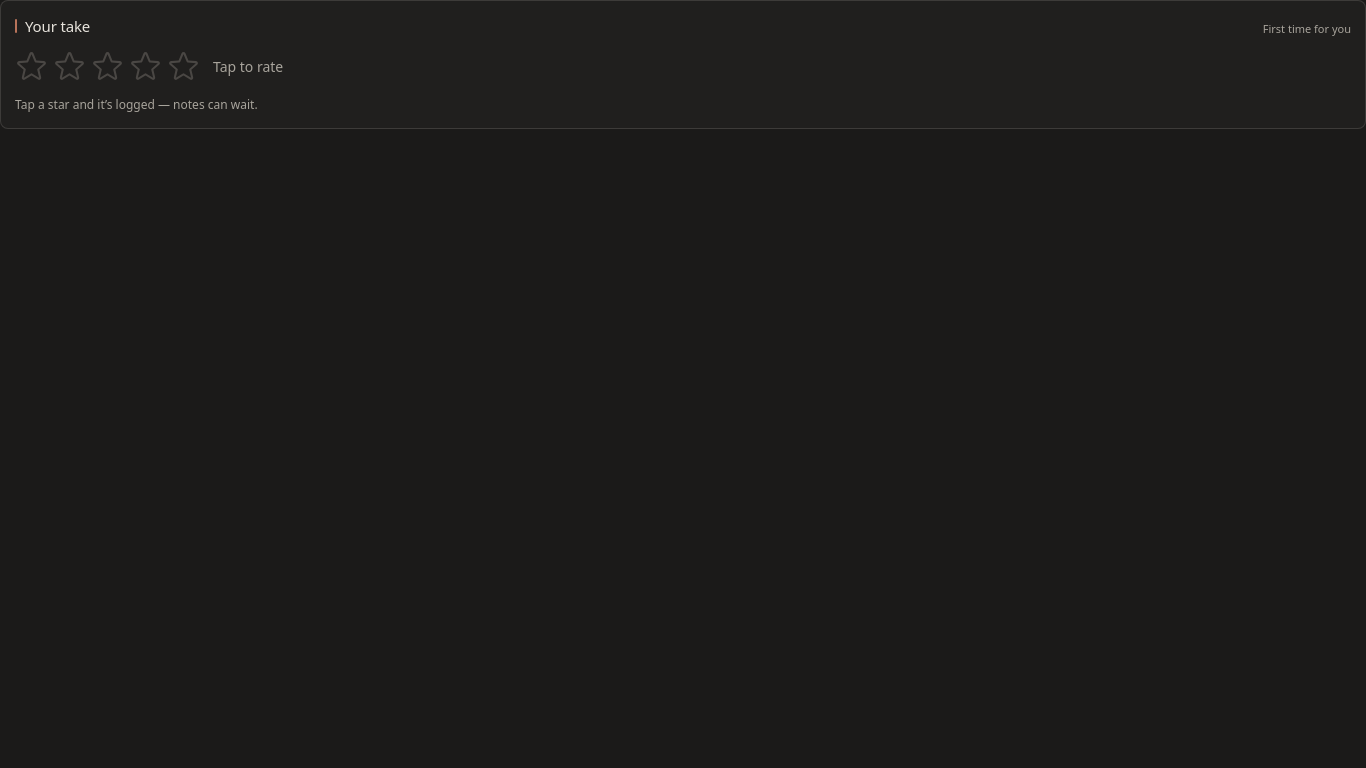
Scenario: §5 log panel › logs on the first star tap — no Save button — and offers Undo
Click the button with test id "star-rating-4.5" at point(176, 67), box [167,50,184,84]
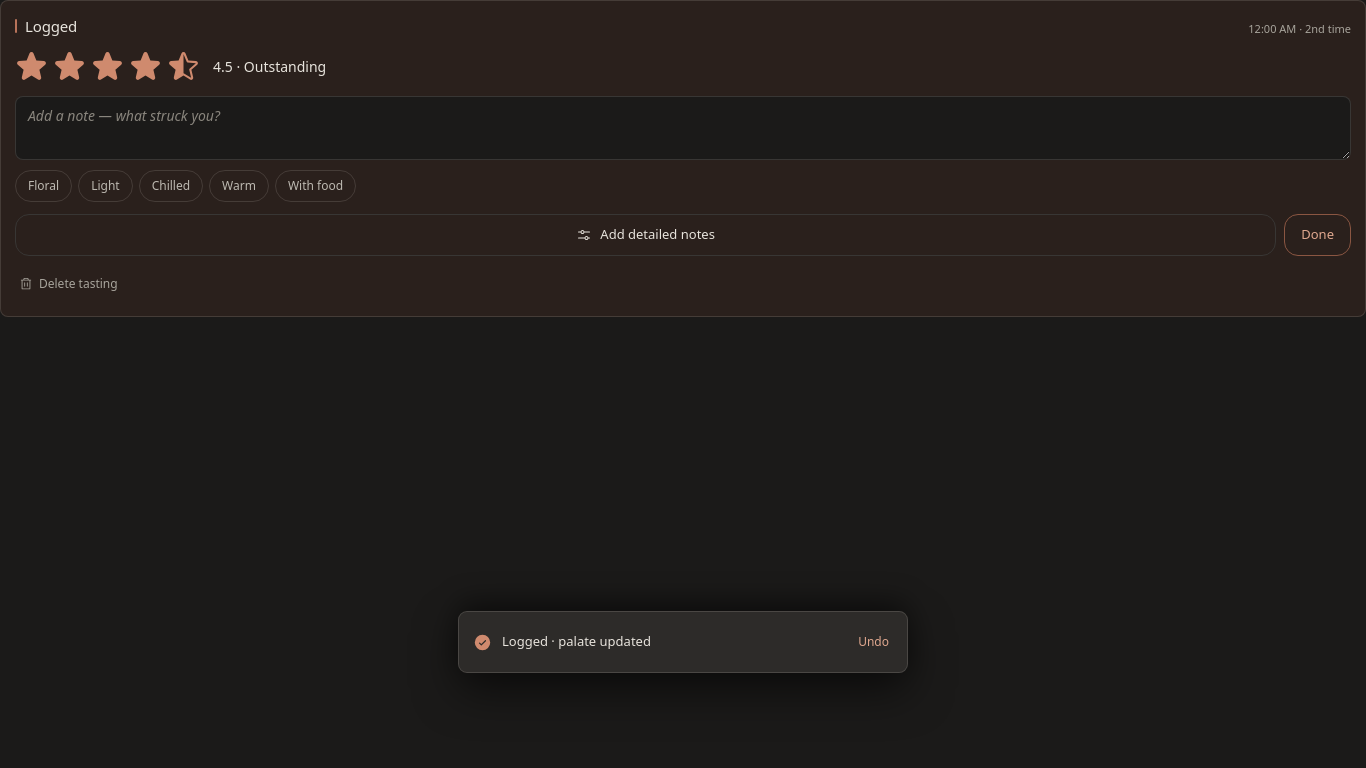
Expected: the text with test id "tasting-log-rating" reads "4.5 · Outstanding", [213,57,326,76]
Expected: the heading "Logged" is shown, [25,15,77,38]
Expected: the text with test id "tasting-log-meta" shows "2nd time", [1248,21,1351,36]
